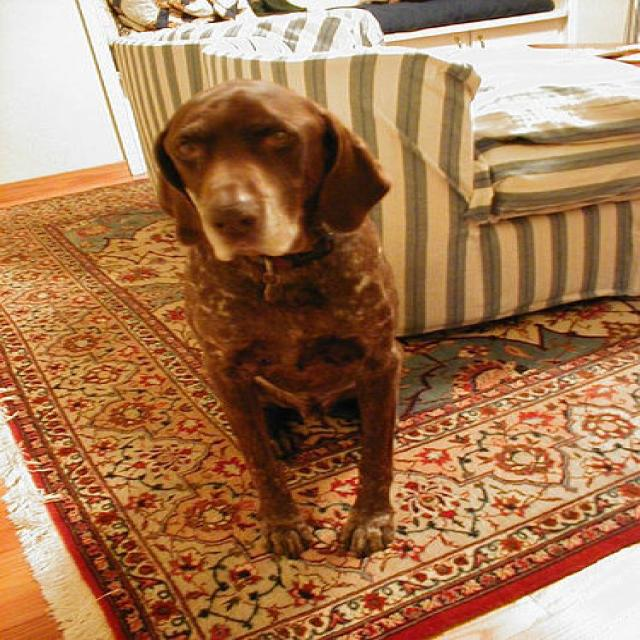dog-german_shorthaired: (147, 76, 403, 558)
